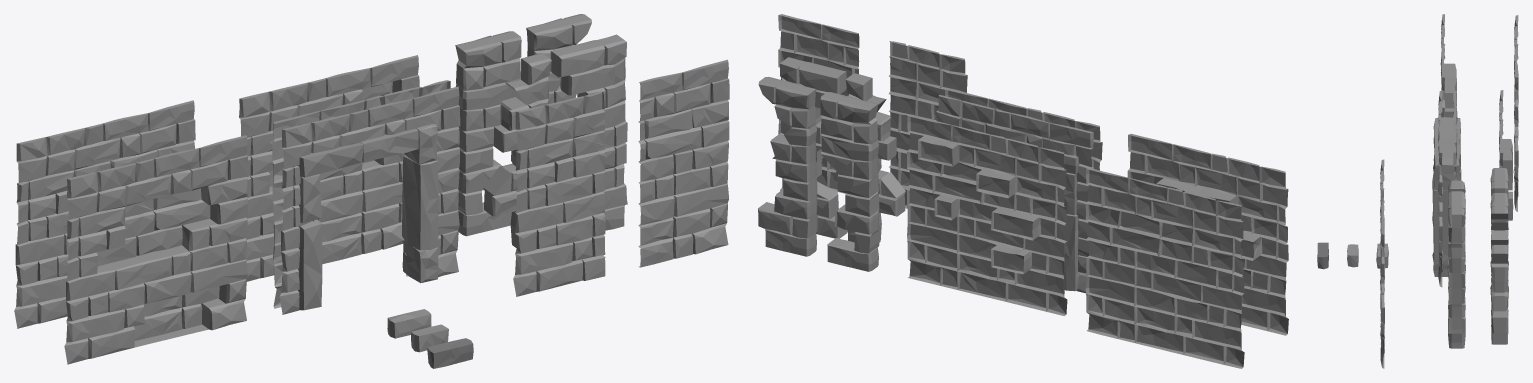
The model's file is paredes pero ahora que si de verdad 100 real no fake link en la descripcion para levy y compania.FBX.
The picture shows the model from 3 angles, left to right: view 1: azimuth 30°, elevation 25°; view 2: azimuth 150°, elevation 25°; view 3: azimuth 270°, elevation 25°; orthographic projection. The views are drawn at different scales.
Parts seen in each view (by area): view 1: newnewwall2, doordoor, newnewwall1, newnewwallhalf1, newnewwallhalf0, newnewwall0, broken0, broken1, broken3, broken2, brick0, brick2 (+1 smaller); view 2: newnewwall1, newnewwall0, newnewwall2, doordoor, broken0, broken2, newnewwallhalf1, newnewwallhalf0, broken1, broken3; view 3: doordoor, broken1, broken2, newnewwall2, newnewwall0, newnewwall1, newnewwallhalf0, broken0, brick0, newnewwallhalf1, brick1, broken3 (+1 smaller).
Boxes of the visible parts, box(x1,y1,x2,y2) form: newnewwall2: box(64, 135, 248, 364); doordoor: box(272, 80, 460, 314); newnewwall1: box(239, 55, 419, 281); newnewwallhalf1: box(513, 91, 605, 296); newnewwallhalf0: box(638, 59, 729, 267); newnewwall0: box(14, 100, 195, 328); broken0: box(455, 31, 521, 236); broken1: box(550, 34, 627, 230); broken3: box(483, 53, 551, 247); broken2: box(526, 14, 591, 103); brick0: box(427, 338, 473, 368); brick2: box(387, 309, 431, 338); newnewwall1: box(907, 115, 1067, 315); newnewwall0: box(1085, 167, 1244, 368); newnewwall2: box(1127, 133, 1288, 335); doordoor: box(936, 88, 1102, 293); broken0: box(820, 92, 879, 271); broken2: box(758, 77, 817, 256); newnewwallhalf1: box(889, 41, 967, 208); newnewwallhalf0: box(778, 14, 859, 193); broken1: box(779, 57, 847, 238); broken3: box(845, 73, 905, 242); doordoor: box(1432, 90, 1461, 287); broken1: box(1448, 191, 1465, 348); broken2: box(1490, 193, 1508, 344); newnewwall2: box(1440, 14, 1457, 117); newnewwall0: box(1514, 15, 1518, 211); newnewwall1: box(1499, 90, 1513, 220); newnewwallhalf0: box(1380, 203, 1384, 368); broken0: box(1490, 168, 1508, 306); brick0: box(1317, 242, 1328, 269); newnewwallhalf1: box(1380, 159, 1384, 321); brick1: box(1347, 244, 1358, 267); broken3: box(1447, 180, 1465, 308).
Size of the model in its own units: 1387 by 415 by 534.
3 materials, 1 textured.
